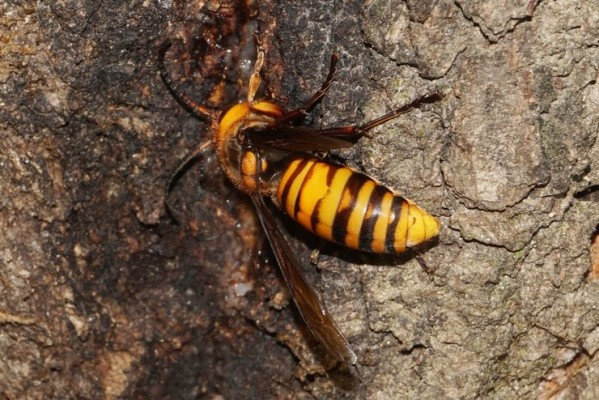asian_giant_hornet: (189, 71, 443, 258)
